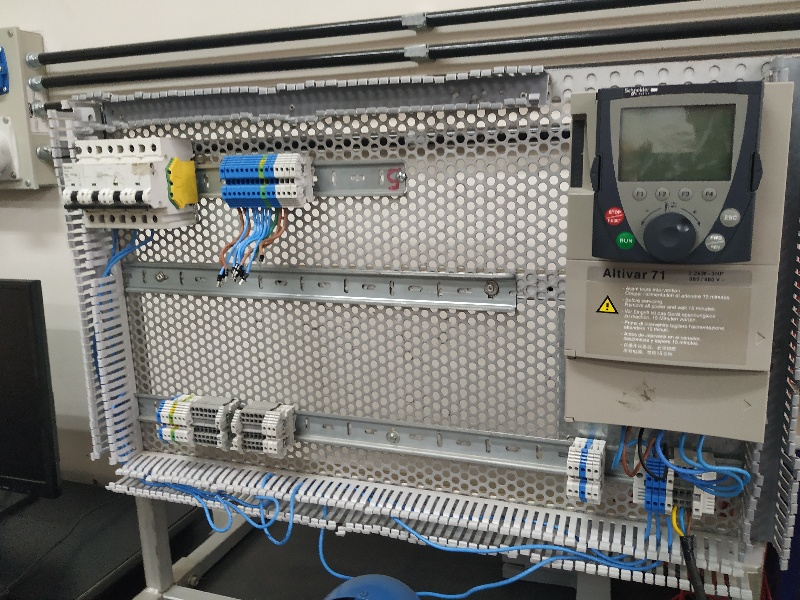Tablero 0: (40, 69, 793, 569)
